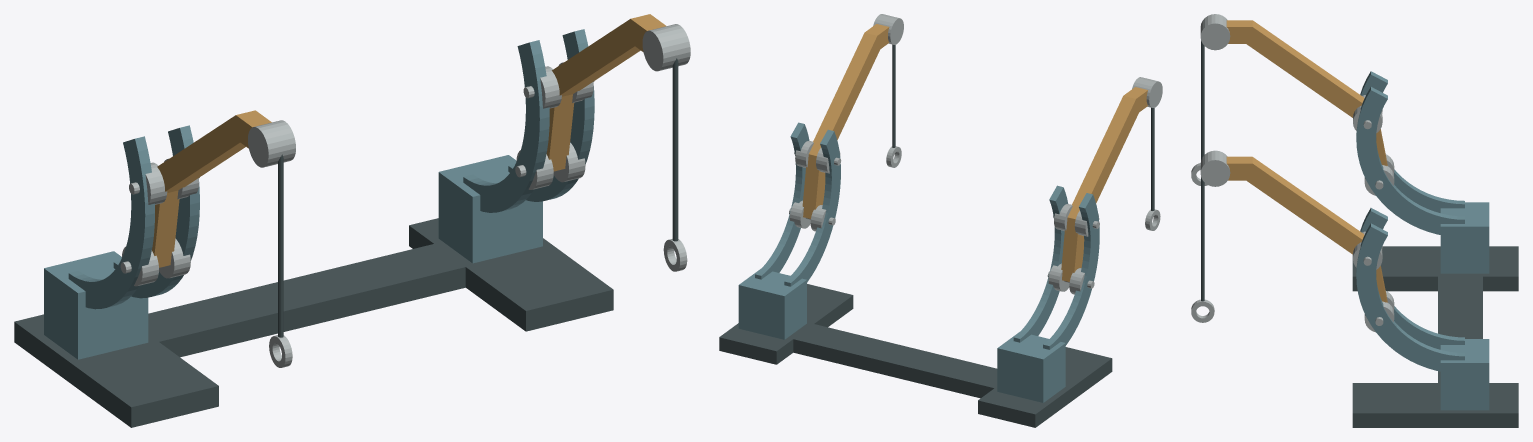
3 renders of one model, left to right at view 1: azimuth 30°, elevation 25°; view 2: azimuth 150°, elevation 25°; view 3: azimuth 270°, elevation 25°, orthographic. The views are drawn at different scales.
Parts seen in each view (by area): view 1: WholeCommonHShapedGroundFrame, WholeRootedTrackPedestal1, WholeRootedTrackPedestal0, WholeBentOutboardDavit1, WholeBentOutboardDavit0, WholeContinuousCurvedGuideCheek1_0, WholeContinuousCurvedGuideCheek0_0, WholeContinuousCurvedGuideCheek1_1, WholeContinuousCurvedGuideCheek0_1, WholeOutboardHeadPulley1, WholeOutboardHeadPulley0, WholeFixedSuspensionCord1 (+7 smaller); view 2: WholeCommonHShapedGroundFrame, WholeBentOutboardDavit1, WholeBentOutboardDavit0, WholeRootedTrackPedestal1, WholeRootedTrackPedestal0, WholeContinuousCurvedGuideCheek1_0, WholeContinuousCurvedGuideCheek0_0, WholeContinuousCurvedGuideCheek0_1, WholeContinuousCurvedGuideCheek1_1, WholeOutboardHeadPulley0, WholeOutboardHeadPulley1; view 3: WholeCommonHShapedGroundFrame, WholeBentOutboardDavit1, WholeBentOutboardDavit0, WholeContinuousCurvedGuideCheek1_1, WholeContinuousCurvedGuideCheek0_1, WholeRootedTrackPedestal1, WholeRootedTrackPedestal0, WholeContinuousCurvedGuideCheek0_0, WholeContinuousCurvedGuideCheek1_0, WholeOutboardHeadPulley1, WholeOutboardHeadPulley0, WholeFixedSuspensionCord1 (+2 smaller).
Boxes of the visible parts, x1,y1,x2,y2 form: WholeCommonHShapedGroundFrame: [14, 218, 613, 427]; WholeRootedTrackPedestal1: [438, 155, 542, 263]; WholeRootedTrackPedestal0: [44, 251, 148, 359]; WholeBentOutboardDavit1: [546, 14, 666, 171]; WholeBentOutboardDavit0: [152, 110, 271, 267]; WholeContinuousCurvedGuideCheek1_0: [463, 40, 549, 212]; WholeContinuousCurvedGuideCheek0_0: [68, 136, 154, 309]; WholeContinuousCurvedGuideCheek1_1: [508, 29, 594, 201]; WholeContinuousCurvedGuideCheek0_1: [113, 125, 199, 298]; WholeOutboardHeadPulley1: [642, 24, 690, 71]; WholeOutboardHeadPulley0: [248, 120, 295, 167]; WholeFixedSuspensionCord1: [672, 58, 678, 241]; WholeCommonHShapedGroundFrame: [719, 284, 1112, 427]; WholeBentOutboardDavit1: [802, 24, 889, 218]; WholeBentOutboardDavit0: [1061, 87, 1147, 281]; WholeRootedTrackPedestal1: [738, 269, 806, 339]; WholeRootedTrackPedestal0: [997, 332, 1065, 402]; WholeContinuousCurvedGuideCheek1_0: [784, 129, 840, 286]; WholeContinuousCurvedGuideCheek0_0: [1043, 193, 1099, 349]; WholeContinuousCurvedGuideCheek0_1: [1013, 185, 1068, 342]; WholeContinuousCurvedGuideCheek1_1: [755, 122, 809, 279]; WholeOutboardHeadPulley0: [1132, 77, 1162, 107]; WholeOutboardHeadPulley1: [873, 14, 903, 44]; WholeCommonHShapedGroundFrame: [1352, 246, 1518, 427]; WholeBentOutboardDavit1: [1226, 156, 1387, 302]; WholeBentOutboardDavit0: [1226, 20, 1387, 165]; WholeContinuousCurvedGuideCheek1_1: [1356, 223, 1464, 371]; WholeContinuousCurvedGuideCheek0_1: [1356, 87, 1464, 234]; WholeRootedTrackPedestal1: [1440, 339, 1489, 410]; WholeRootedTrackPedestal0: [1440, 202, 1489, 273]; WholeContinuousCurvedGuideCheek0_0: [1360, 71, 1464, 212]; WholeContinuousCurvedGuideCheek1_0: [1360, 208, 1464, 349]; WholeOutboardHeadPulley1: [1200, 150, 1230, 186]; WholeOutboardHeadPulley0: [1200, 14, 1230, 50]; WholeFixedSuspensionCord1: [1201, 177, 1204, 301].
Size of the model in its own units: 4.4 by 3.16 by 3.65.
